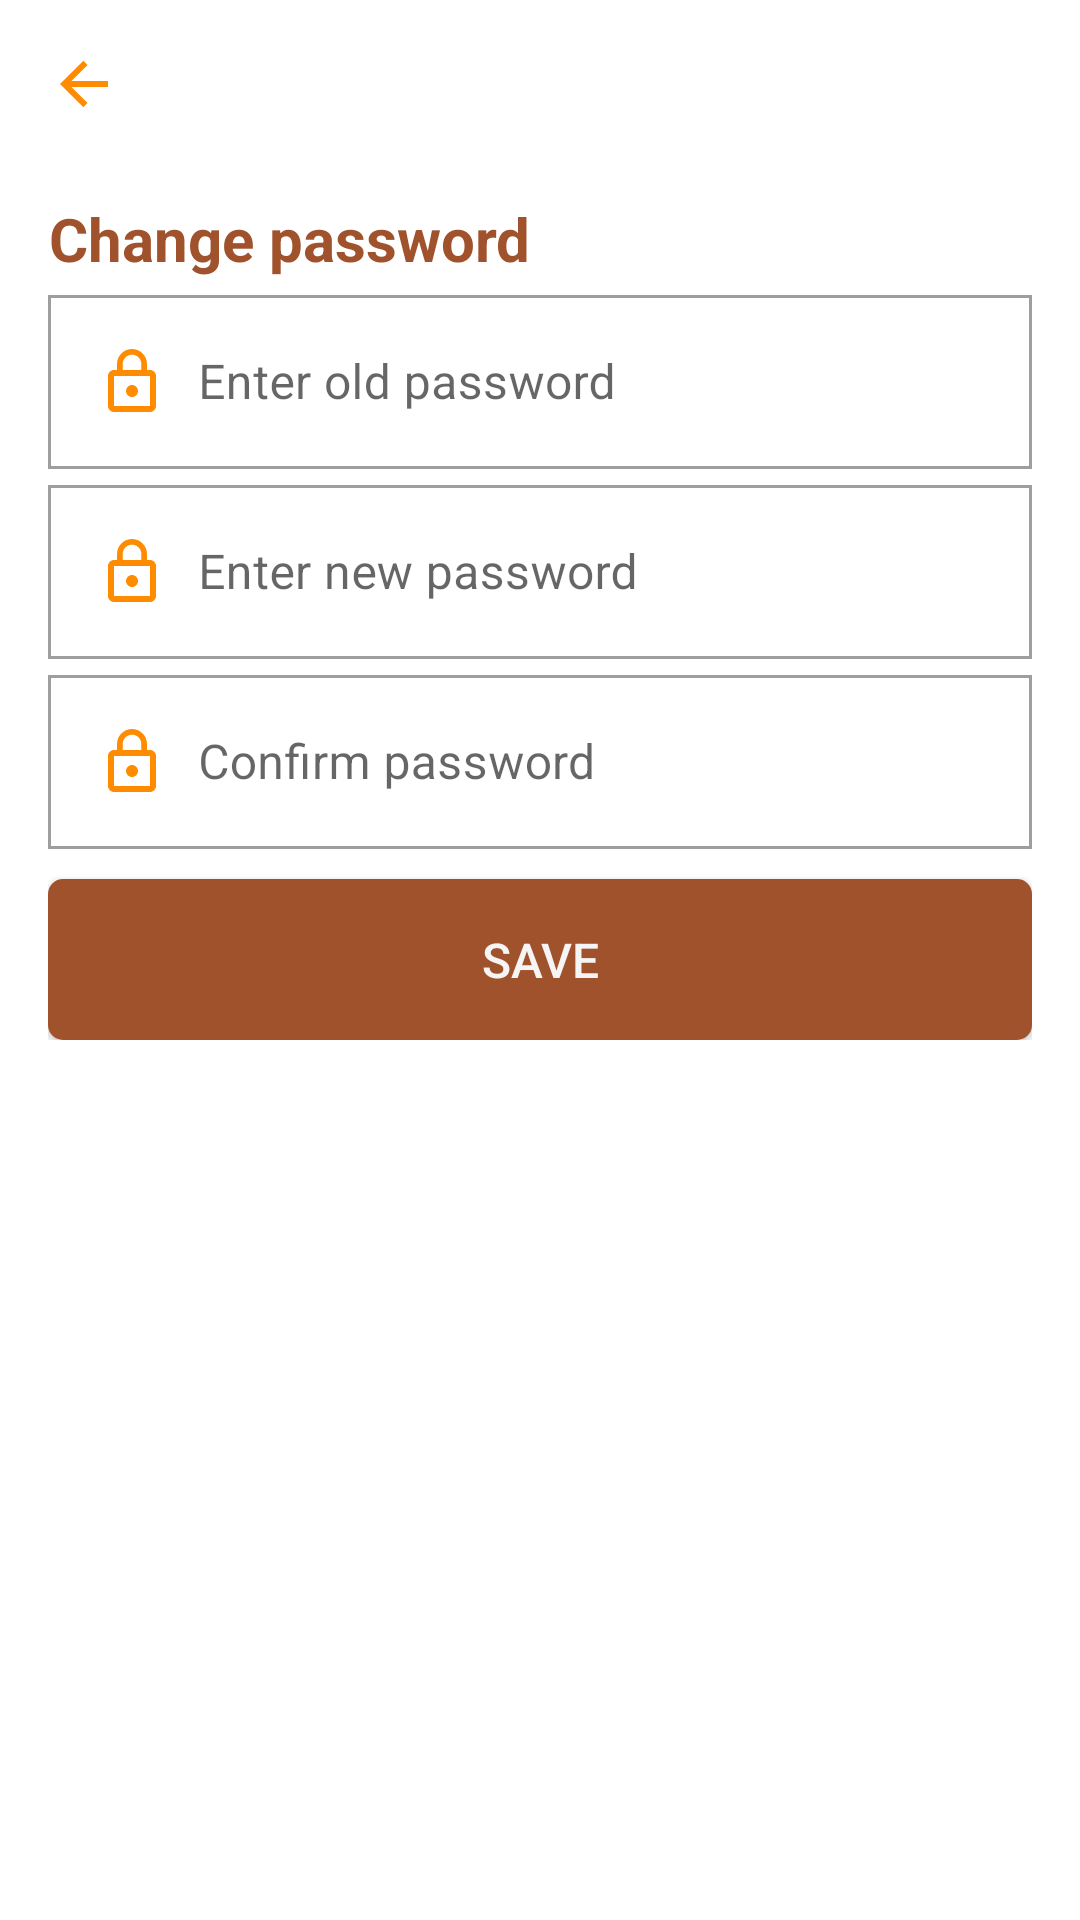

Where icons sit on this 1080×1920 app screen, as (x1, y1, x2, y2):
back home: (60, 61, 108, 107)
